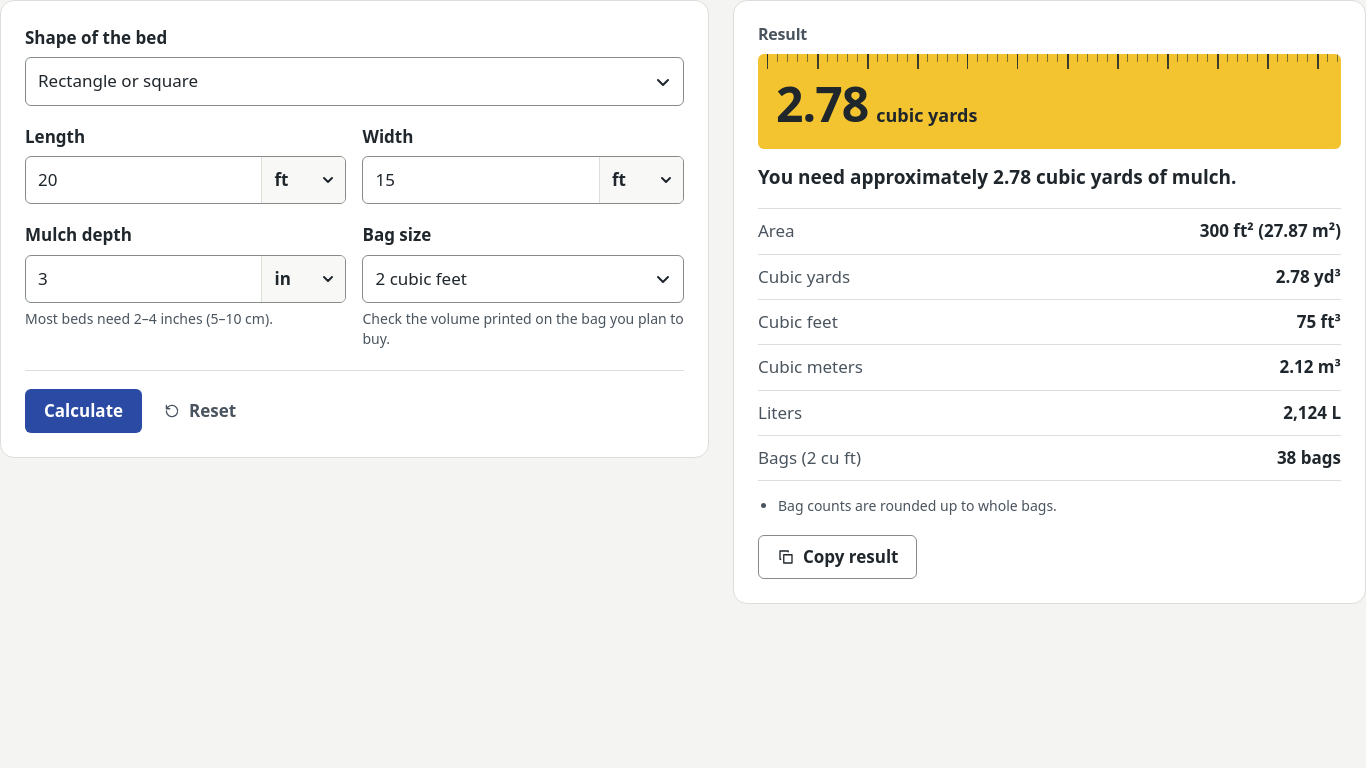
Test: CalculatorForm › moves focus to the first invalid field on submit
Step 1. Clear the field labelled "Width" → (481, 180), box [364,157,599,203]
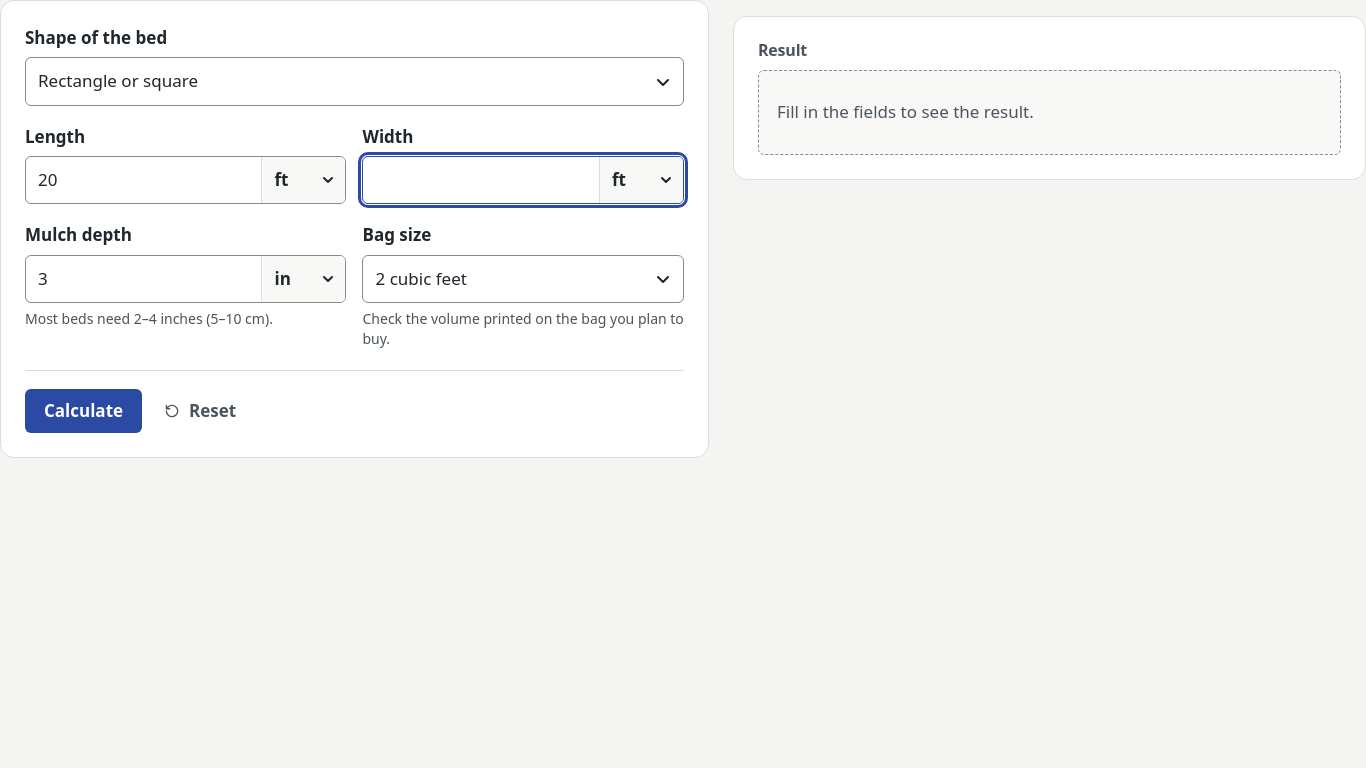
Step 2. Click the button "Calculate" → (84, 411), box [25,389,142,433]
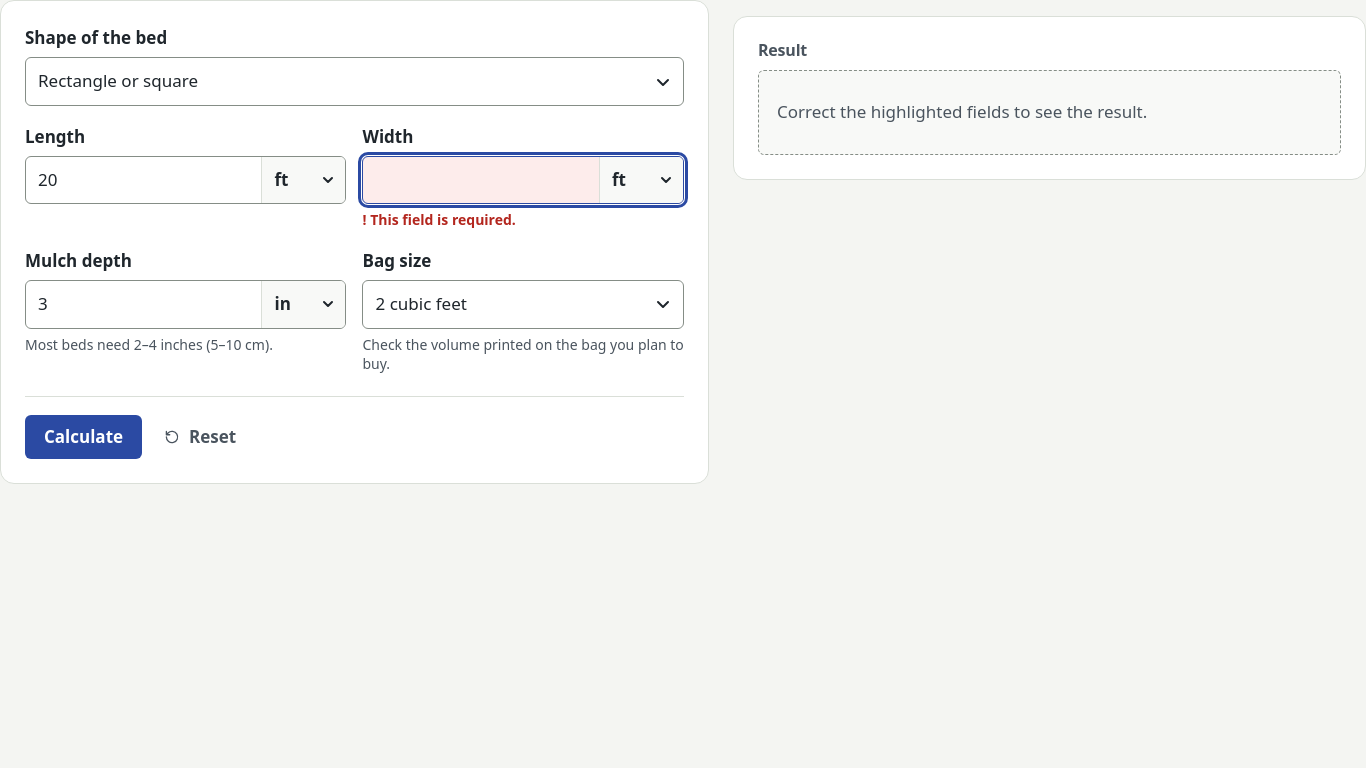
Expected: the text "This field is required." is shown, [370,210,516,229]
